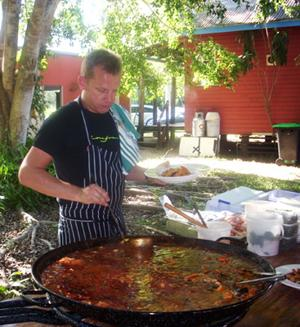person: (20, 51, 128, 248)
